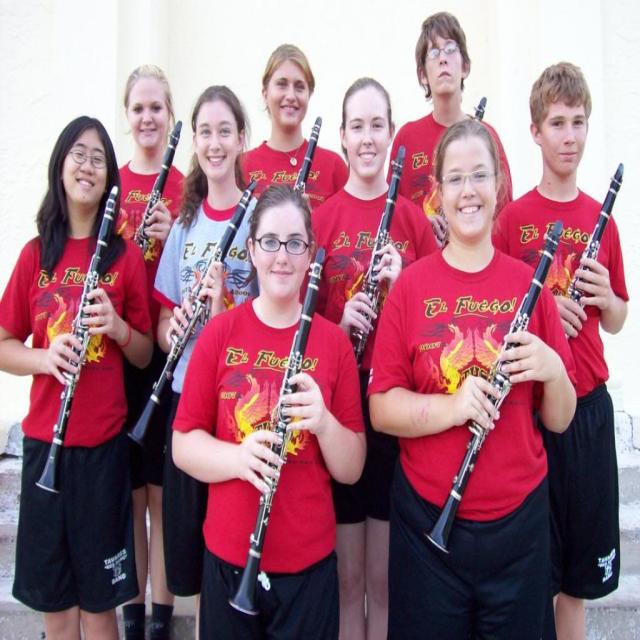clarinet: (424, 219, 565, 558), (227, 246, 329, 624), (125, 179, 262, 451), (33, 182, 123, 502), (347, 142, 406, 367), (564, 160, 628, 308), (130, 119, 188, 248), (289, 113, 325, 202)
